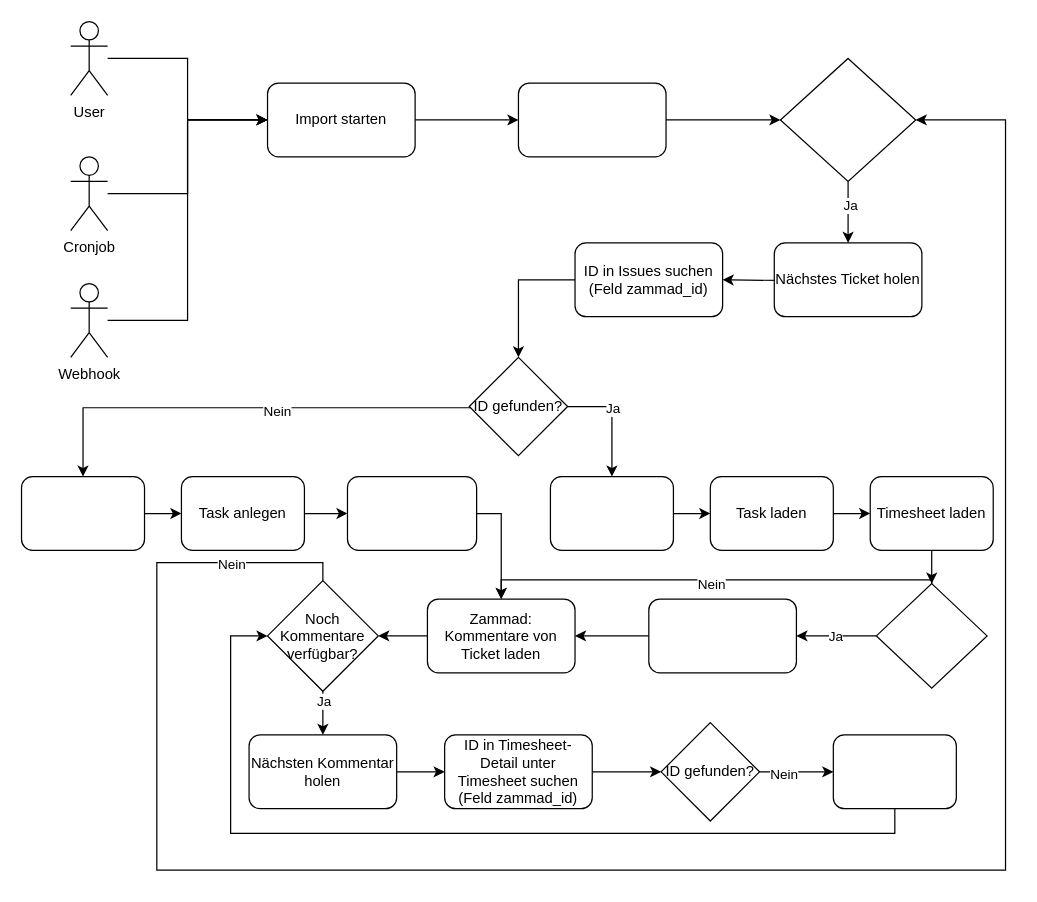
This 1037x902 diagram has some shape labels left out. Each missing label, with the centre of its shape:
"Issue anlegen" goes at point (82, 512).
"Issue laden" goes at point (611, 512).
"Issue, Task & Timesheet aktualisieren" goes at point (722, 635).
"Noch Tickets verfügbar?" goes at point (847, 119).
"Timesheet anlegen" goes at point (411, 512).
"Timesheet-Detail anlegen" goes at point (894, 771).
"Zammad Ticket aktueller?" goes at point (931, 635).
"Zammad: Alle Tickets holen" goes at point (591, 119).
